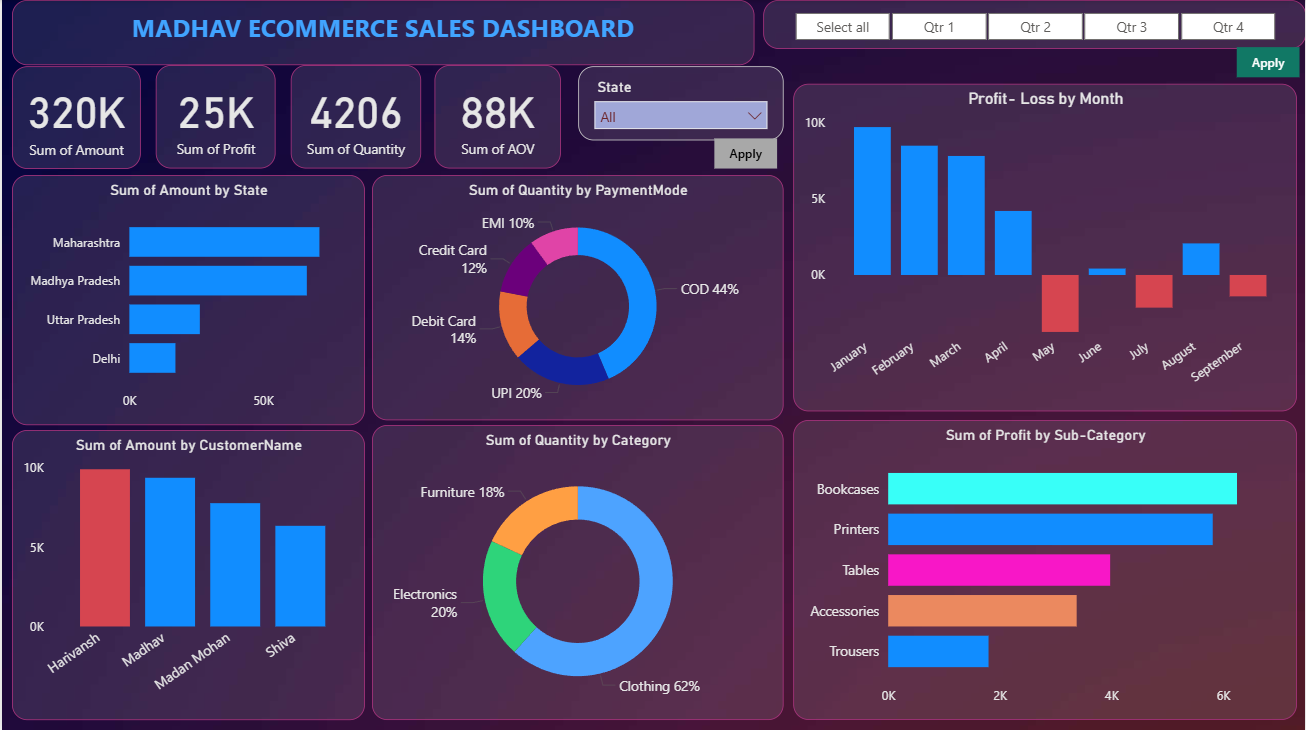

Layout of this report page (visuals, bound fields, positions):
{"tool":"powerbi","page":{"name":"Page 1","canvas":[1280,720],"ordinal":0},"visuals":[{"type":"columnChart","title":"Profit- Loss by Month","fields":{"Y":["Details.Profit"],"Category":["Orders.Order Date.Variation.Date Hierarchy.Month"]},"box":[776.7,82.2,494.5,321.5],"z":1000},{"type":"barChart","fields":{"Category":["Details.Sub-Category"],"Y":["Details.Profit"]},"box":[776.7,412.3,494.5,294.5],"z":2000},{"type":"donutChart","fields":{"Category":["Details.Category"],"Y":["Details.Quantity"]},"box":[363.2,417.2,403.7,289.6],"z":3000},{"type":"donutChart","fields":{"Y":["Details.Quantity"],"Category":["Details.PaymentMode"]},"box":[363.2,171.8,403.7,240.5],"z":4000},{"type":"card","fields":{"Values":["Details.Amount"]},"box":[9.8,65,126.4,100.6],"z":5000},{"type":"card","fields":{"Values":["Details.Profit"]},"box":[150.9,63.8,117.8,101.8],"z":6000},{"type":"card","fields":{"Values":["Details.Quantity"]},"box":[283.4,63.8,127.6,101.8],"z":7000},{"type":"card","fields":{"Values":["Details.AOV"]},"box":[424.5,63.8,123.9,101.8],"z":8000},{"type":"barChart","fields":{"Category":["Orders.State"],"Y":["Details.Amount"]},"box":[9.8,171.8,346,245.4],"z":9000},{"type":"columnChart","fields":{"Category":["Orders.CustomerName"],"Y":["Details.Amount"]},"box":[9.8,422.1,346,284.7],"z":10000},{"type":"slicer","fields":{"Values":["Orders.Order Date.Variation.Date Hierarchy.Quarter"]},"box":[747.2,0,532.5,82.2],"z":11000},{"type":"slicer","fields":{"Values":["Orders.State"]},"box":[565.6,65,201.2,106.7],"z":12000},{"type":"textbox","box":[9.8,0,728.8,63.8],"z":13000}]}

Visuals, with their boxes in screenshot pixels (x1, y1, x2, y2), scaled from the page's 1280x720 canvas onto the 1306x730 screenshot:
"Profit- Loss by Month" columnChart: 792:83:1297:409
barChart - Details.Sub-Category x Details.Profit: 792:418:1297:717
donutChart - Details.Category x Details.Quantity: 371:423:782:717
donutChart - Details.Quantity x Details.PaymentMode: 371:174:782:418
card - Details.Amount: 10:66:139:168
card - Details.Profit: 154:65:274:168
card - Details.Quantity: 289:65:419:168
card - Details.AOV: 433:65:560:168
barChart - Orders.State x Details.Amount: 10:174:363:423
columnChart - Orders.CustomerName x Details.Amount: 10:428:363:717
slicer - Orders.Order Date.Variation.Date Hierarchy.Quarter: 762:0:1305:83
slicer - Orders.State: 577:66:782:174
textbox: 10:0:754:65
